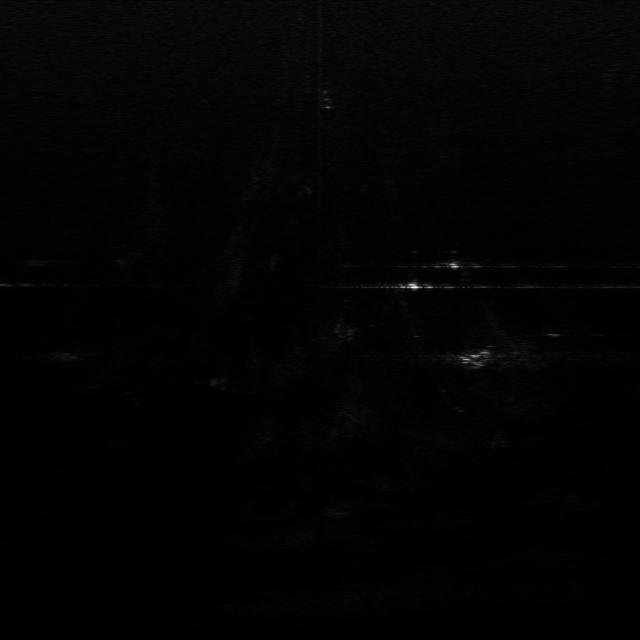rov: (456, 346, 498, 373)
